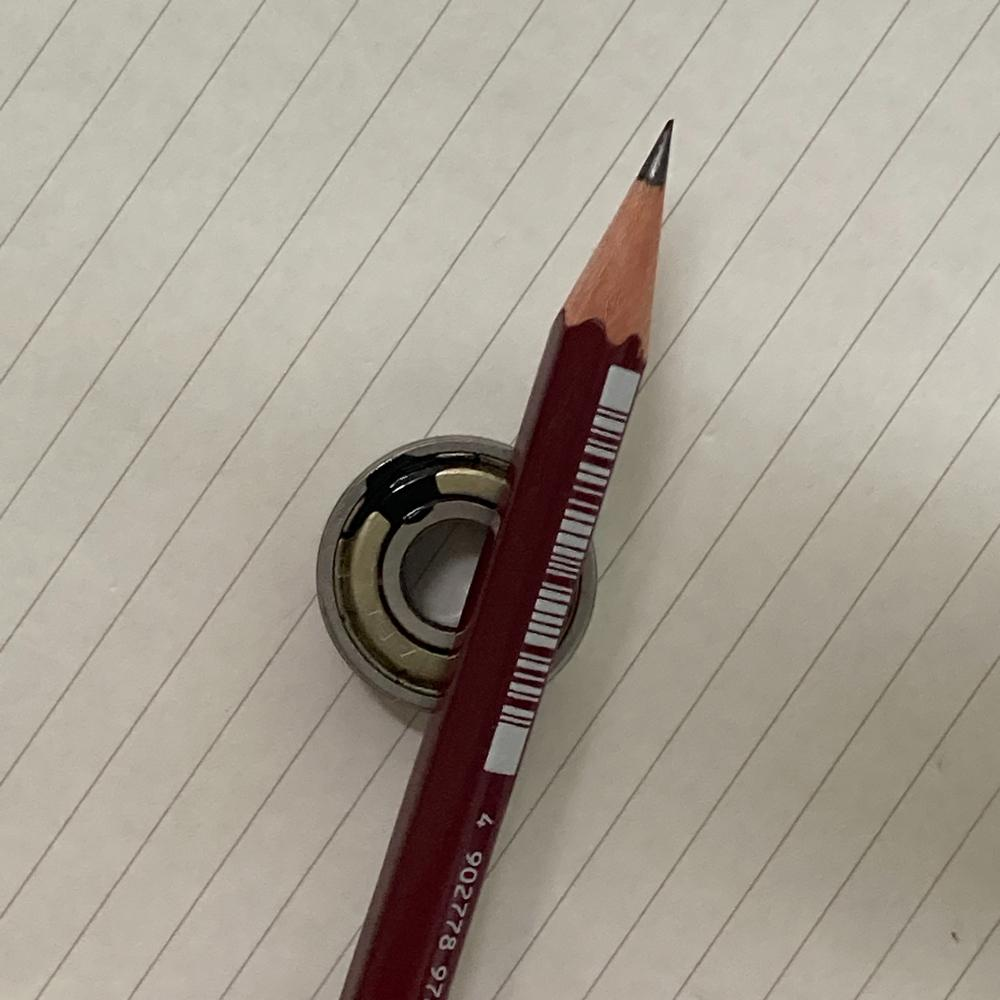ball_bearing_oil_stain: (311, 435, 602, 713)
